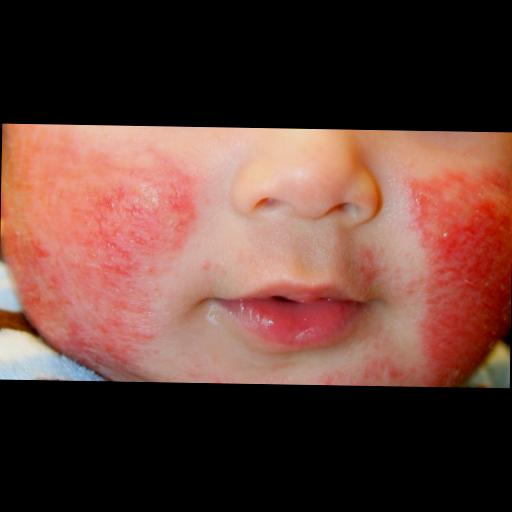Skin_Lesion: (434, 210, 492, 353), (80, 190, 130, 294), (30, 156, 62, 199), (102, 302, 127, 356), (16, 273, 40, 303), (146, 224, 177, 245), (66, 322, 86, 344), (32, 242, 52, 258), (1, 197, 13, 220), (361, 264, 376, 280), (164, 184, 182, 196), (388, 366, 400, 380), (200, 260, 214, 272), (172, 202, 184, 211), (324, 376, 334, 385)
